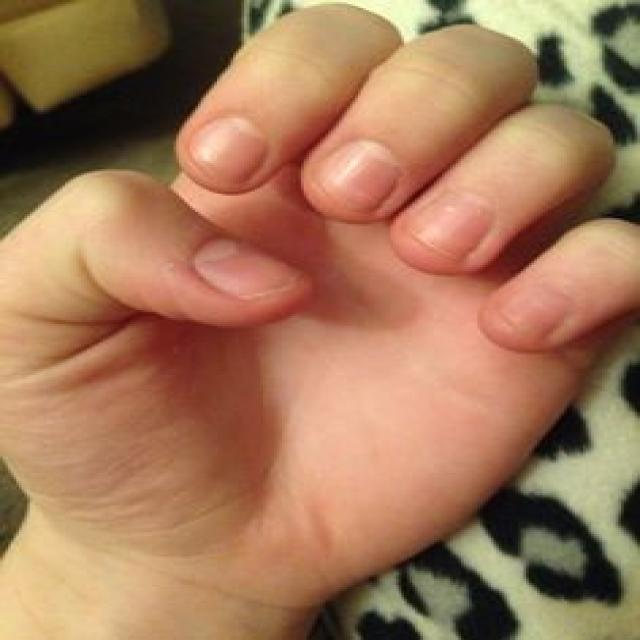Fingernail: (195, 235, 301, 298), (313, 139, 398, 212), (407, 190, 494, 259), (190, 115, 266, 187), (502, 280, 575, 340)
